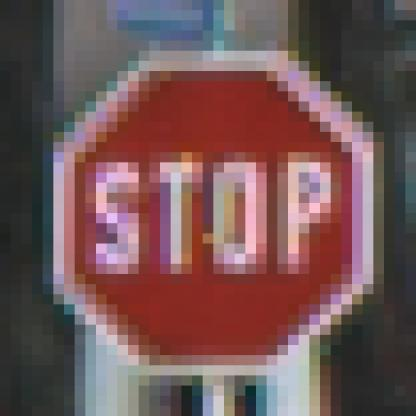Stop: (56, 60, 369, 372)
